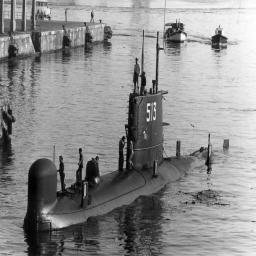submarine: (23, 91, 232, 239)
